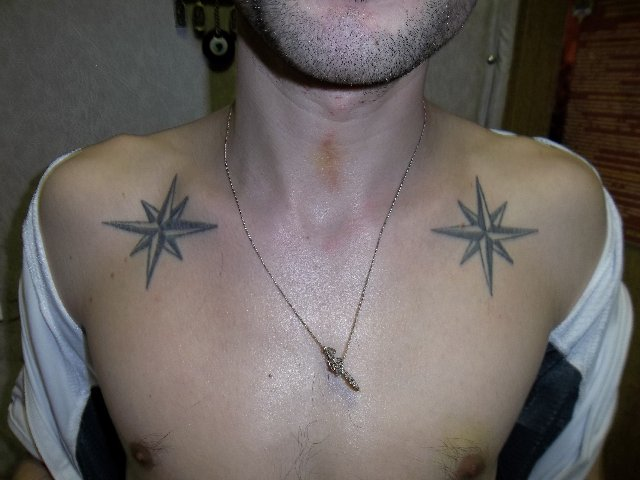tatu4_zvezda: (105, 173, 218, 291), (430, 176, 540, 296)
